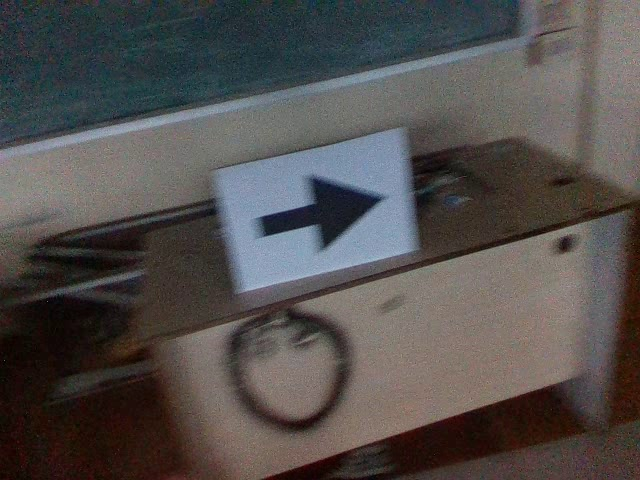Right: (247, 168, 391, 255)
